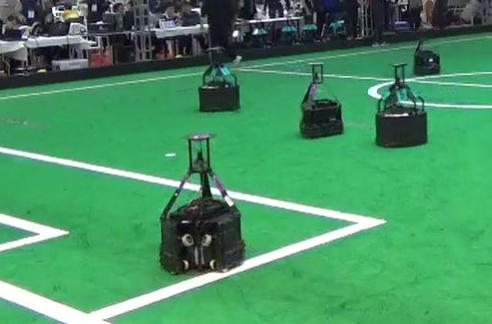robot: (149, 129, 248, 274), (372, 58, 431, 150), (292, 58, 348, 139), (193, 43, 249, 114)
